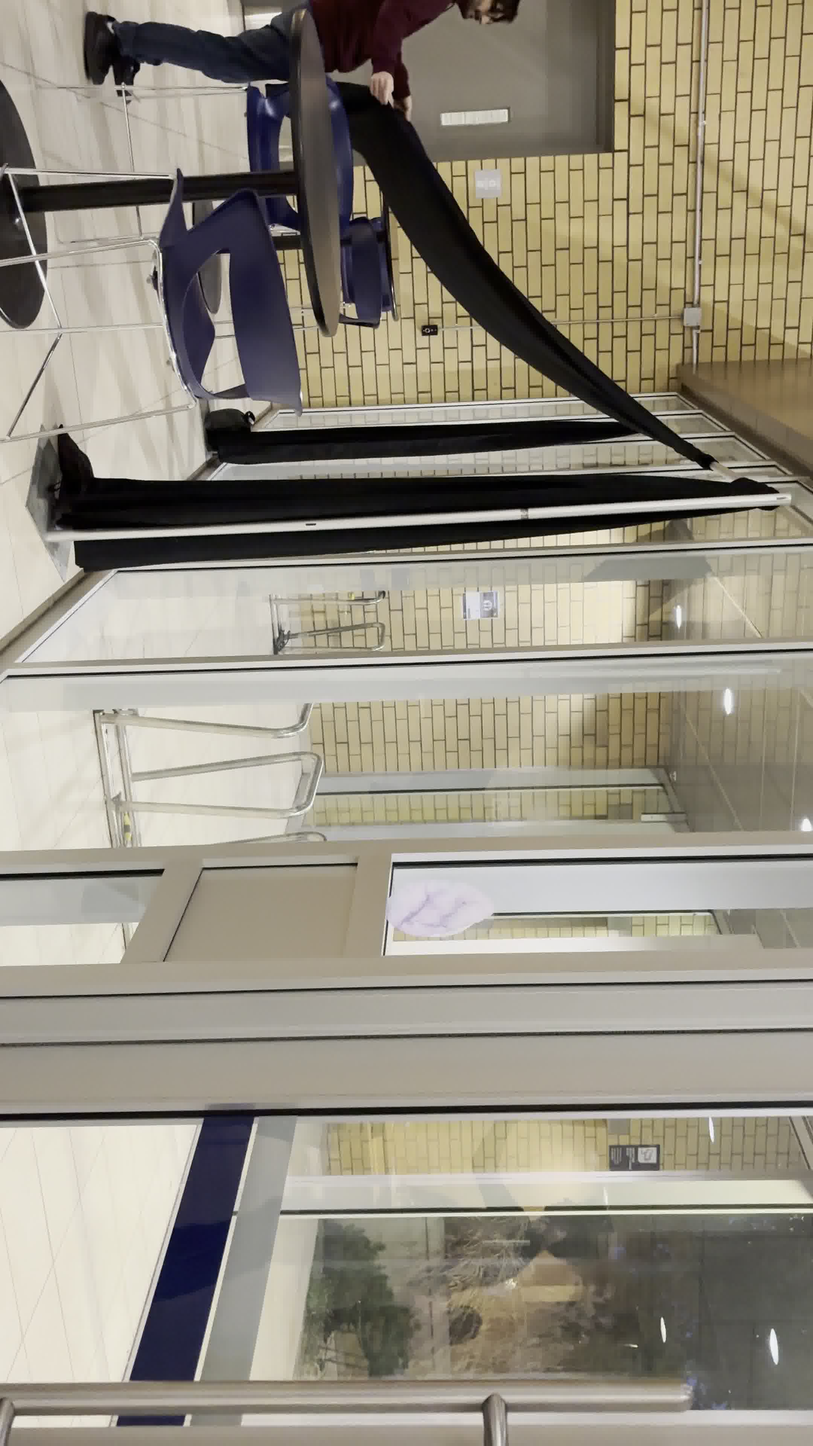Target: (383, 877, 497, 938)
